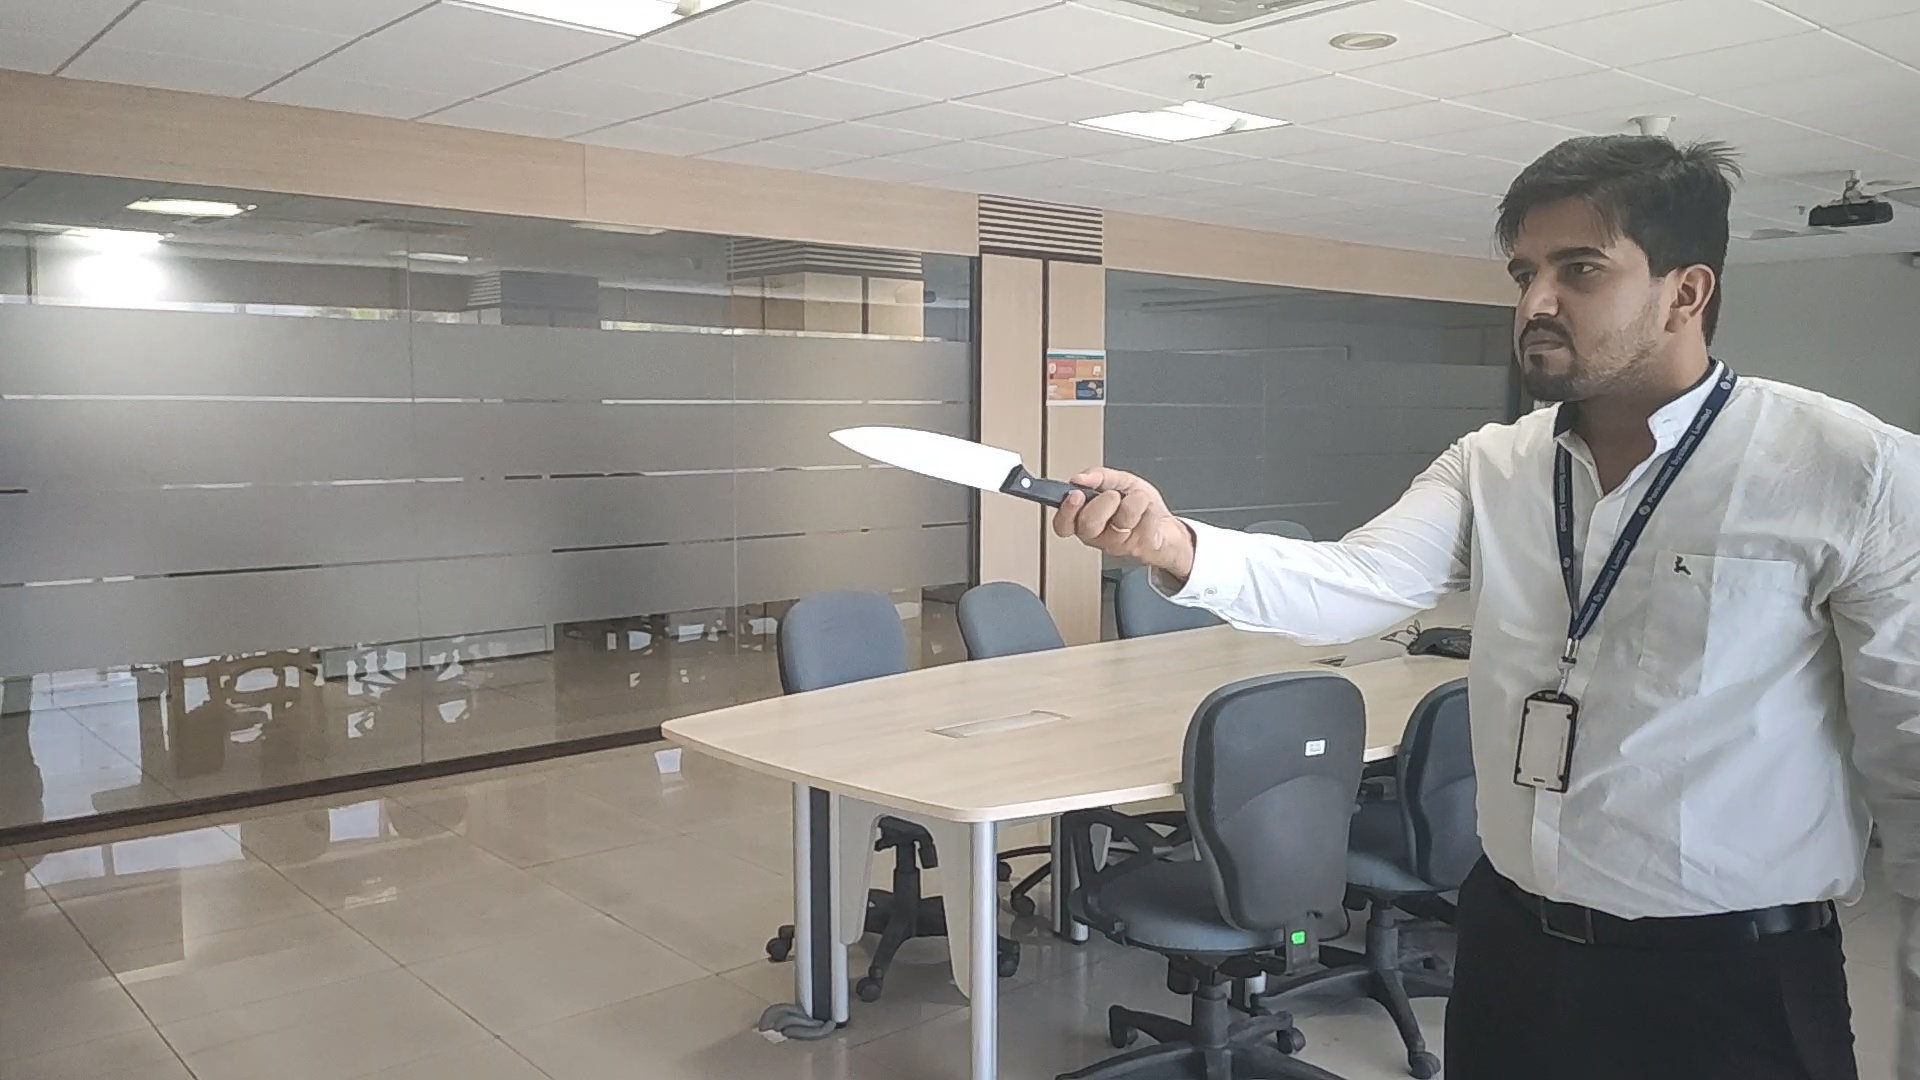knife: (831, 421, 1065, 501)
